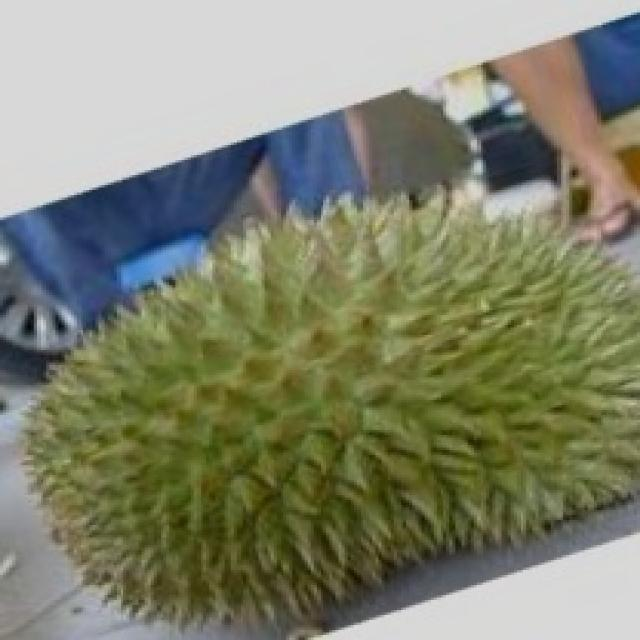fruit: (249, 190, 640, 632), (0, 205, 369, 637)
